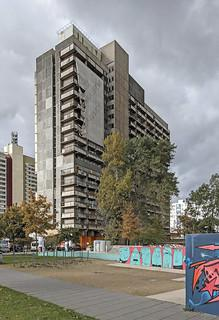building: (28, 18, 174, 248)
